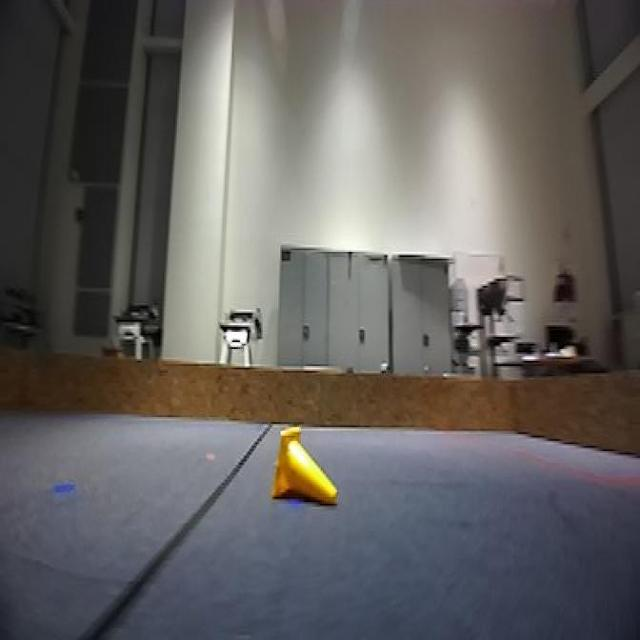frc_cone: (268, 427, 338, 516)
